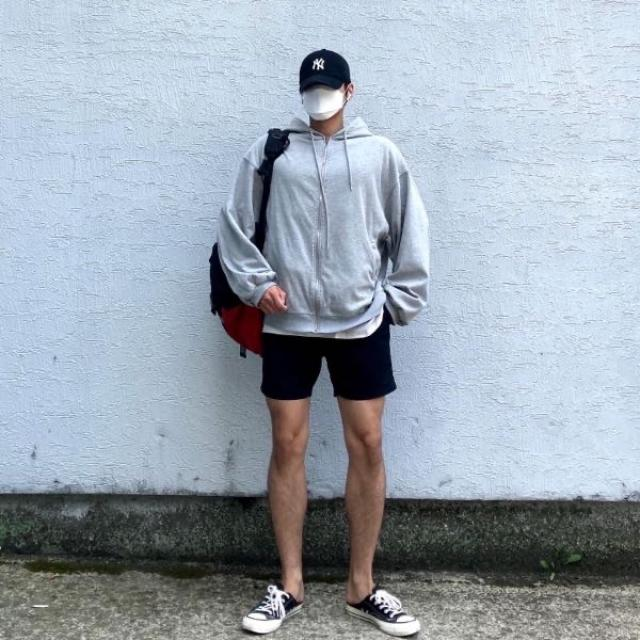shortpants: (259, 314, 397, 405)
zipup: (217, 113, 432, 335)
